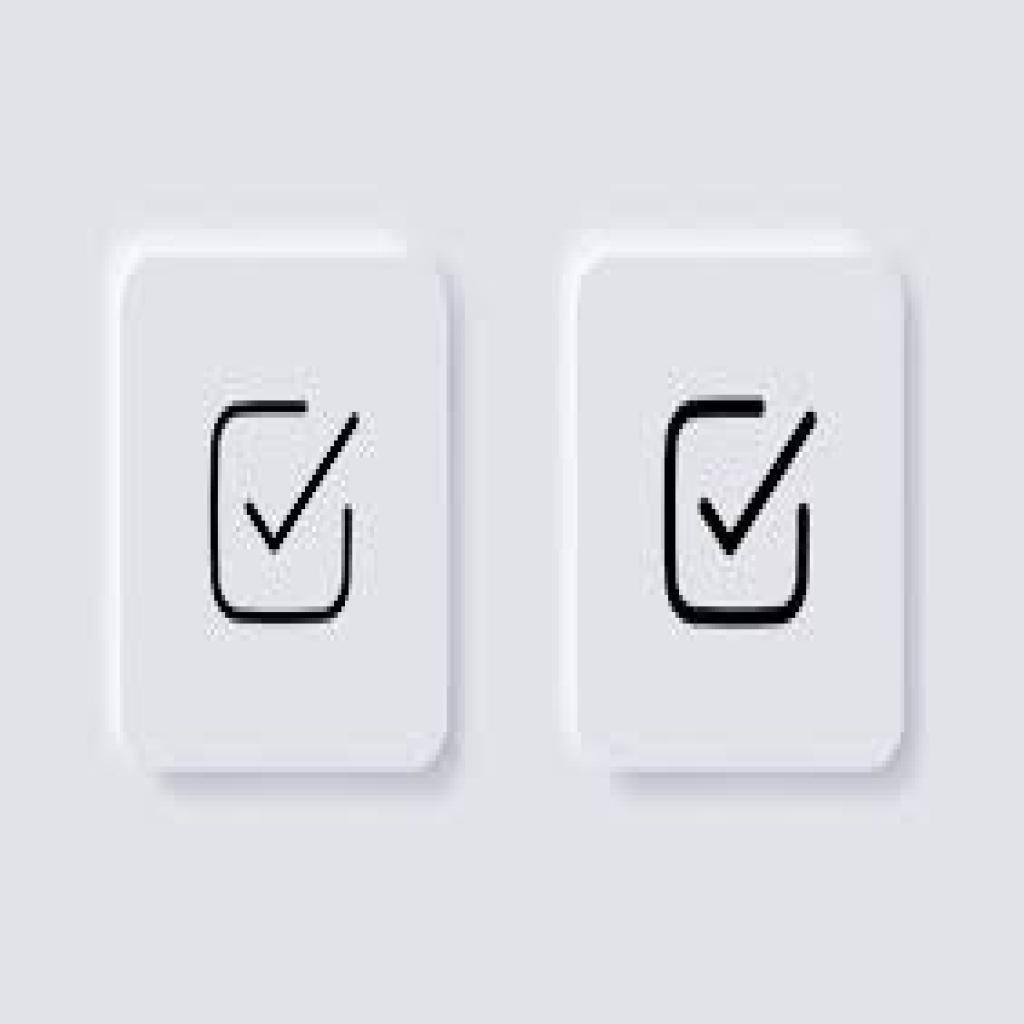checkbox: (214, 406, 350, 620), (671, 405, 804, 622)
